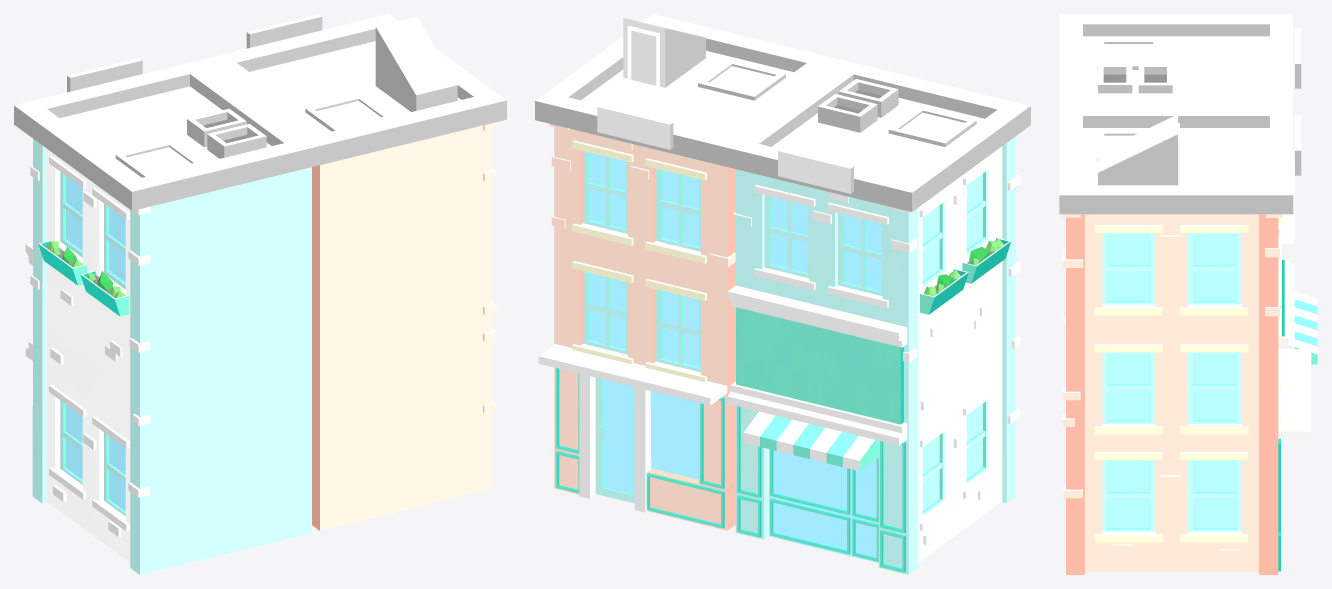
The model's file is dwelling&store.006.glb.
3 views of the same model, side by side, from view 1: azimuth 30°, elevation 25°; view 2: azimuth 150°, elevation 25°; view 3: azimuth 270°, elevation 25° (orthographic).
Visible parts, largest first — view 1: dwelling&store.006(Clone); view 2: dwelling&store.006(Clone); view 3: dwelling&store.006(Clone).
Boxes of the visible parts, bbox=[...] form: dwelling&store.006(Clone): bbox=[14, 14, 506, 574]; dwelling&store.006(Clone): bbox=[535, 14, 1030, 574]; dwelling&store.006(Clone): bbox=[1059, 14, 1317, 574].
Bounding box in the file's own units: 7.16 × 7.94 × 4.31.
1 material, 1 textured.
